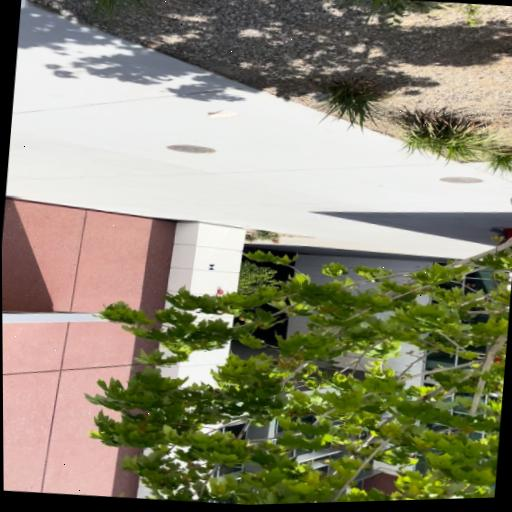target2: (209, 264, 215, 270)
